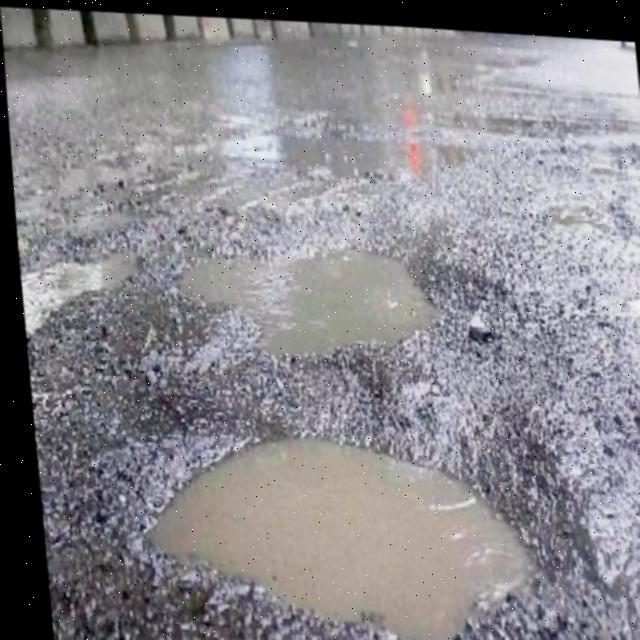pothole: (119, 405, 542, 640), (163, 221, 447, 374), (13, 231, 146, 357)
